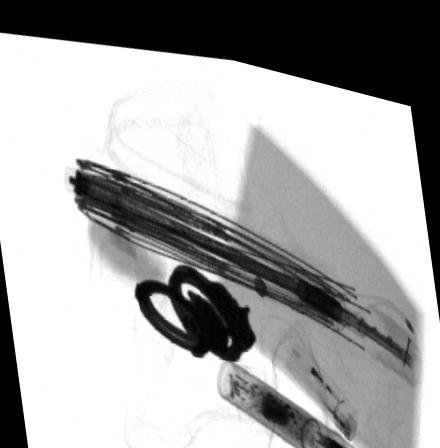Baton: (216, 349, 375, 448)
HandCuffs: (134, 254, 257, 351)
Lighter: (283, 328, 356, 424)
